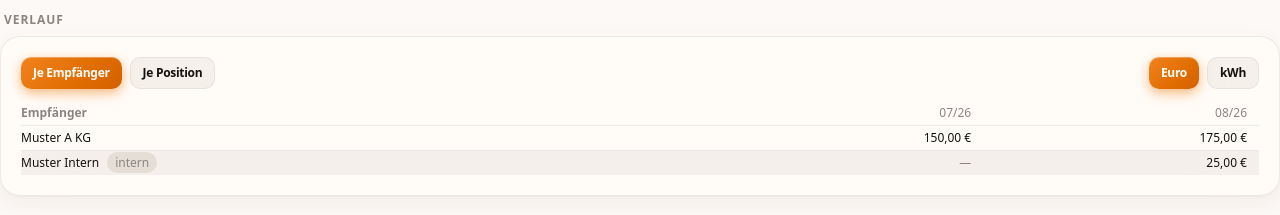
Test: HistoryCard › zeigt die Monate je Empfänger und wechselt zu Positionen und kWh
Check: the column heading "07/26" is shown, box [707,101,983,126]
Check: the text "175,00 €" is shown, box [1200,129,1247,146]
What coordinates should you click on to do the following:
click the button "kWh"
I would click on:
 (1233, 73)
Its box is [1207,57,1259,89].
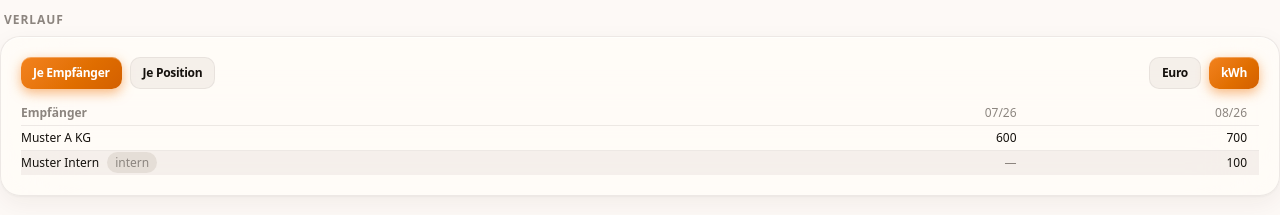
Check: the text "700" is shown, box [1226,129,1247,146]
What coordinates should you click on to do the following:
click the button "Je Position"
I would click on:
 (172, 73)
Its box is [130,57,215,89].
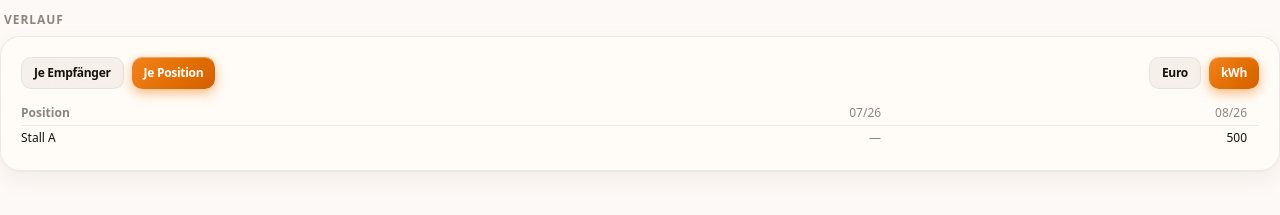
Check: the column heading "Stall A" is shown, box [21,126,527,150]
Check: the column heading "Muster A KG" is gone
